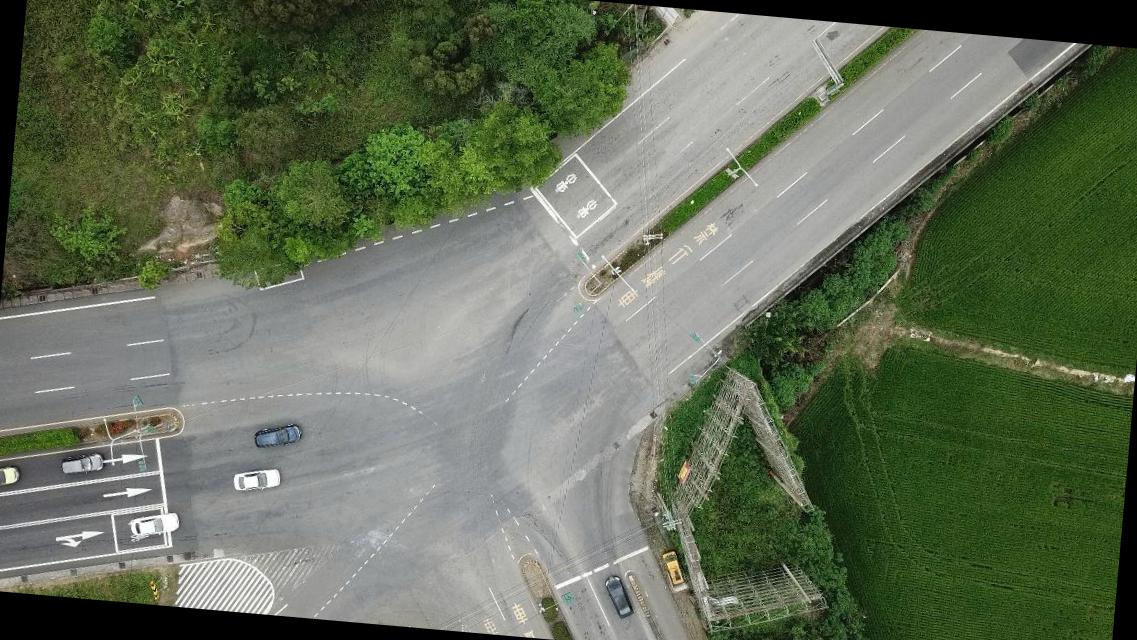vehicle: (251, 419, 302, 454), (230, 462, 282, 496), (601, 574, 636, 621), (128, 511, 182, 538), (59, 452, 104, 480), (658, 550, 685, 587), (0, 461, 21, 492)
